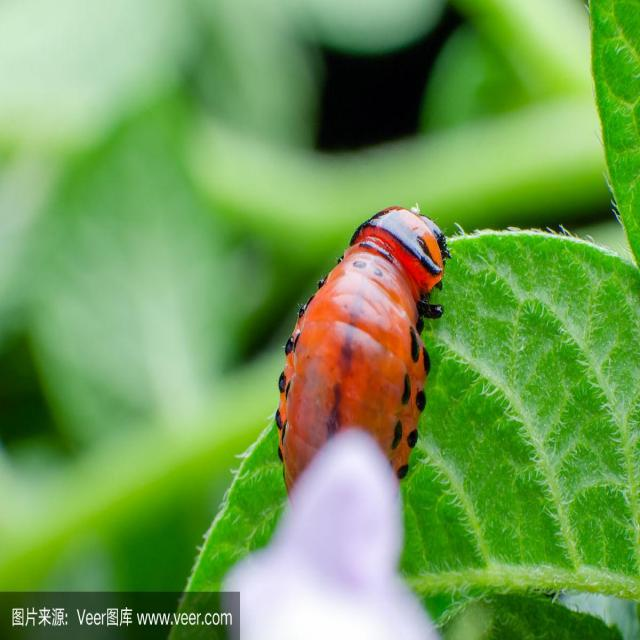ShuCaiHuaBanChong-Larva-: (266, 169, 468, 514)
